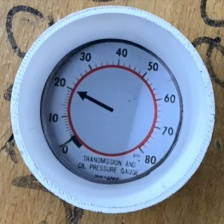gauge: (40, 38, 184, 183)
